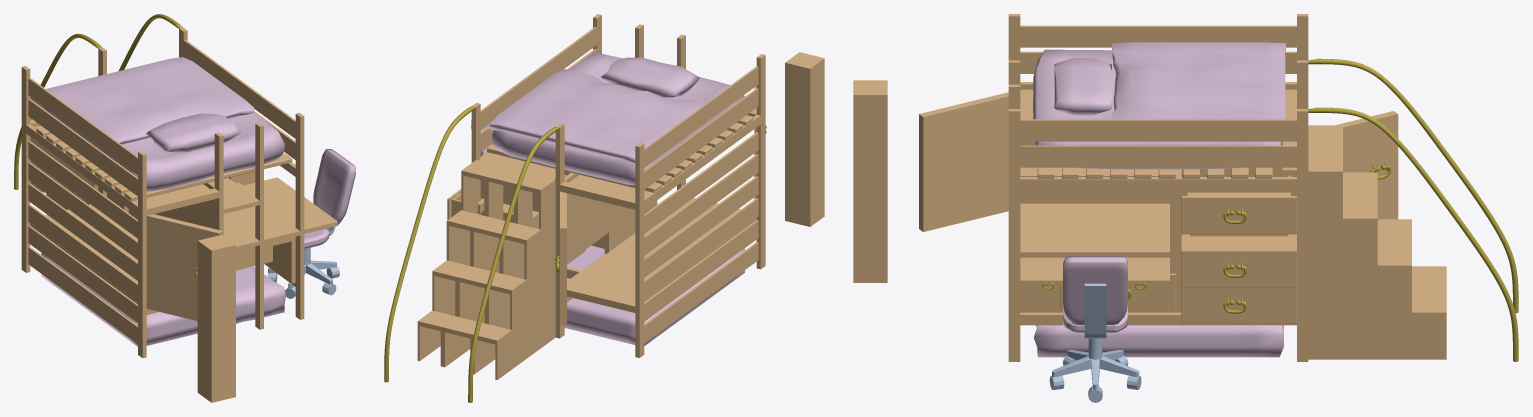
Rendered from multifunctional_loft_bed_with_builtin_desk_and_storage.glb.
3 views of the same model, side by side, from view 1: azimuth 30°, elevation 25°; view 2: azimuth 150°, elevation 25°; view 3: azimuth 270°, elevation 25° (orthographic). The views are drawn at different scales.
Visible parts, largest first — view 1: Object_3, Object_5, Object_4, Object_6, Object_2; view 2: Object_3, Object_5, Object_4; view 3: Object_3, Object_5, Object_4, Object_6, Object_2.
Part boxes in pixels (bbox=[...]): Object_3: bbox=[21, 27, 337, 402]; Object_5: bbox=[41, 57, 355, 346]; Object_4: bbox=[14, 14, 329, 276]; Object_6: bbox=[267, 226, 339, 298]; Object_2: bbox=[268, 248, 336, 288]; Object_3: bbox=[417, 14, 824, 379]; Object_5: bbox=[471, 52, 744, 345]; Object_4: bbox=[384, 106, 766, 402]; Object_3: bbox=[853, 14, 1446, 361]; Object_5: bbox=[1033, 42, 1285, 357]; Object_4: bbox=[1042, 58, 1518, 361]; Object_6: bbox=[1049, 283, 1141, 402]; Object_2: bbox=[1052, 338, 1139, 389].
Size of the model in its own units: 298 by 246 by 587.
